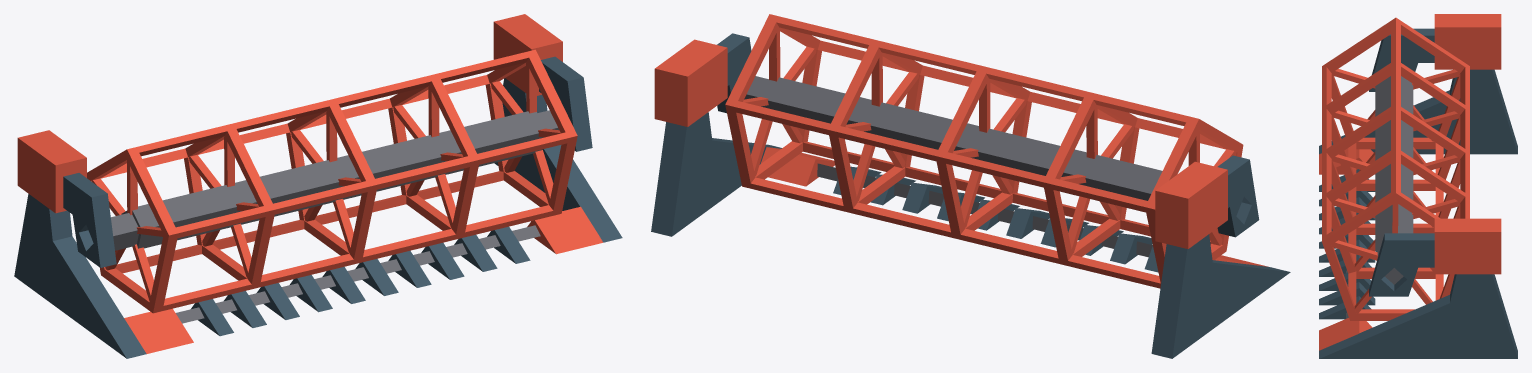
File: Agricultural_Machine_2.fbx
The picture shows the model from 3 angles, left to right: view 1: azimuth 30°, elevation 25°; view 2: azimuth 150°, elevation 25°; view 3: azimuth 270°, elevation 25°; orthographic projection. The views are drawn at different scales.
Parts seen in each view (by area): view 1: Agricultural_Machine_2; view 2: Agricultural_Machine_2; view 3: Agricultural_Machine_2.
Boxes of the visible parts, left/top/right/bottom form: Agricultural_Machine_2: left=14, top=14, right=622, bottom=358; Agricultural_Machine_2: left=651, top=14, right=1290, bottom=358; Agricultural_Machine_2: left=1319, top=14, right=1517, bottom=358.
Size of the model in its own units: 132 by 41.47 by 50.75.
